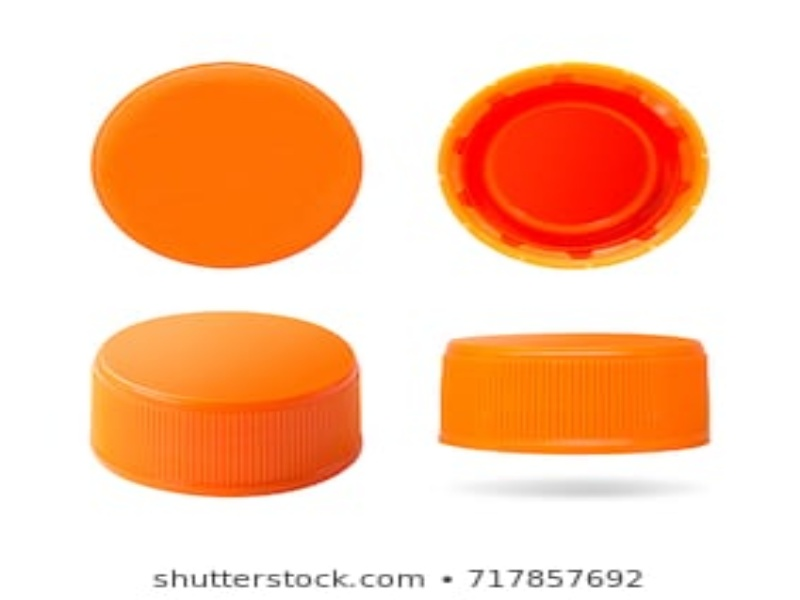bottle-cap: (433, 60, 711, 272), (88, 62, 364, 269), (87, 307, 366, 500), (435, 331, 716, 459)
